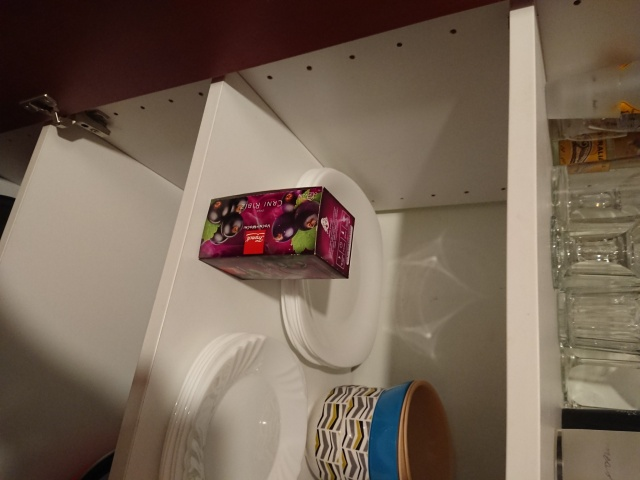Franck Black Currant Tea 60g: (196, 183, 358, 283)
